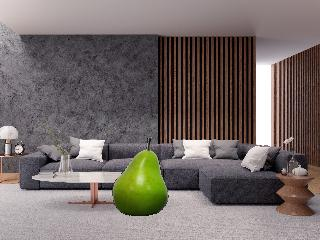pear: (110, 137, 173, 220)
